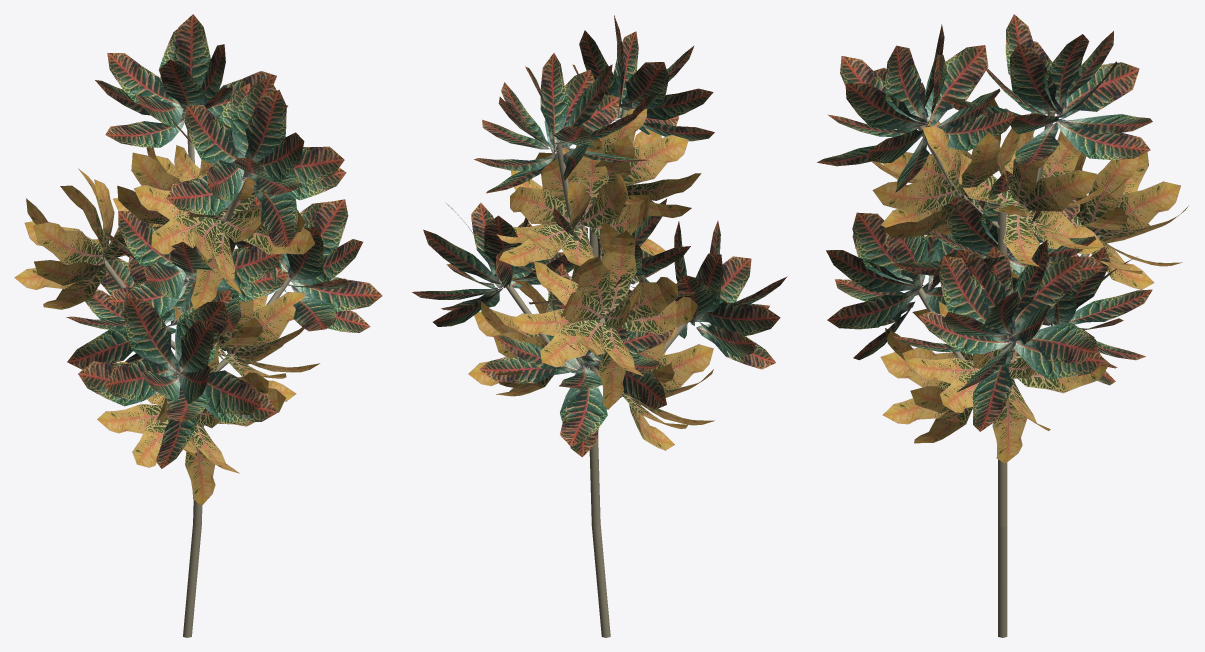
The model's file is croton_rojo.glb.
3 renders of one model, left to right at view 1: azimuth 30°, elevation 25°; view 2: azimuth 150°, elevation 25°; view 3: azimuth 270°, elevation 25°, orthographic. The views are drawn at different scales.
Parts seen in each view (by area): view 1: Mesh7 Croton_redleaf1 croton_redhead1 W3D_Croton_amarillo_ro, Mesh21 Croton_b1 yellow_croton_head1 W3D_Croton_amarillo_roj, Mesh1 Group1 W3D_Croton_amarillo_rojo___Darrell_Smith1 Model; view 2: Mesh7 Croton_redleaf1 croton_redhead1 W3D_Croton_amarillo_ro, Mesh21 Croton_b1 yellow_croton_head1 W3D_Croton_amarillo_roj, Mesh1 Group1 W3D_Croton_amarillo_rojo___Darrell_Smith1 Model; view 3: Mesh7 Croton_redleaf1 croton_redhead1 W3D_Croton_amarillo_ro, Mesh21 Croton_b1 yellow_croton_head1 W3D_Croton_amarillo_roj, Mesh1 Group1 W3D_Croton_amarillo_rojo___Darrell_Smith1 Model.
Boxes of the visible parts, x1,y1,x2,y2 form: Mesh7 Croton_redleaf1 croton_redhead1 W3D_Croton_amarillo_ro: [66, 14, 382, 468]; Mesh21 Croton_b1 yellow_croton_head1 W3D_Croton_amarillo_roj: [14, 145, 319, 505]; Mesh1 Group1 W3D_Croton_amarillo_rojo___Darrell_Smith1 Model: [100, 131, 291, 637]; Mesh7 Croton_redleaf1 croton_redhead1 W3D_Croton_amarillo_ro: [412, 15, 787, 457]; Mesh21 Croton_b1 yellow_croton_head1 W3D_Croton_amarillo_roj: [468, 108, 714, 450]; Mesh1 Group1 W3D_Croton_amarillo_rojo___Darrell_Smith1 Model: [505, 108, 688, 637]; Mesh7 Croton_redleaf1 croton_redhead1 W3D_Croton_amarillo_ro: [817, 14, 1152, 431]; Mesh21 Croton_b1 yellow_croton_head1 W3D_Croton_amarillo_roj: [872, 99, 1188, 463]; Mesh1 Group1 W3D_Croton_amarillo_rojo___Darrell_Smith1 Model: [913, 110, 1102, 637].
Bounding box in the file's own units: 0.8733 × 1.61 × 0.8717.
Materials: 4 (2 with a texture image).
